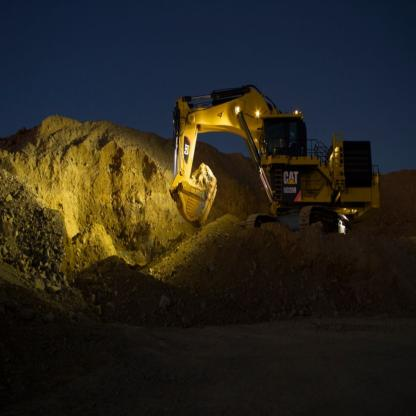excavator: (163, 84, 379, 254)
